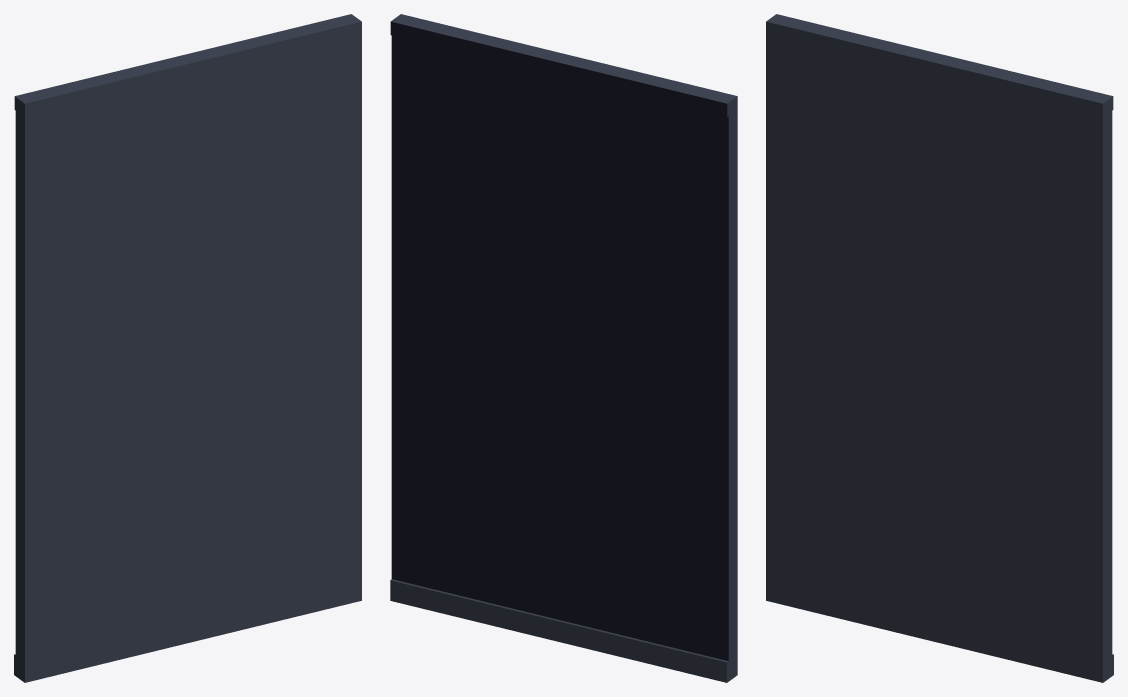
The model's file is Building_FaderWall01.fbx.
The picture shows the model from 3 angles, left to right: view 1: azimuth 30°, elevation 25°; view 2: azimuth 150°, elevation 25°; view 3: azimuth 330°, elevation 25°; orthographic projection.
Parts seen in each view (by area): view 1: Riven's Room.005; view 2: Riven's Room.005; view 3: Riven's Room.005.
Part boxes in pixels (<box>): Riven's Room.005: <box>14,14,361,682</box>; Riven's Room.005: <box>390,14,737,682</box>; Riven's Room.005: <box>766,14,1113,682</box>.
Bounding box in the file's own units: 490 × 804 × 27.18.
